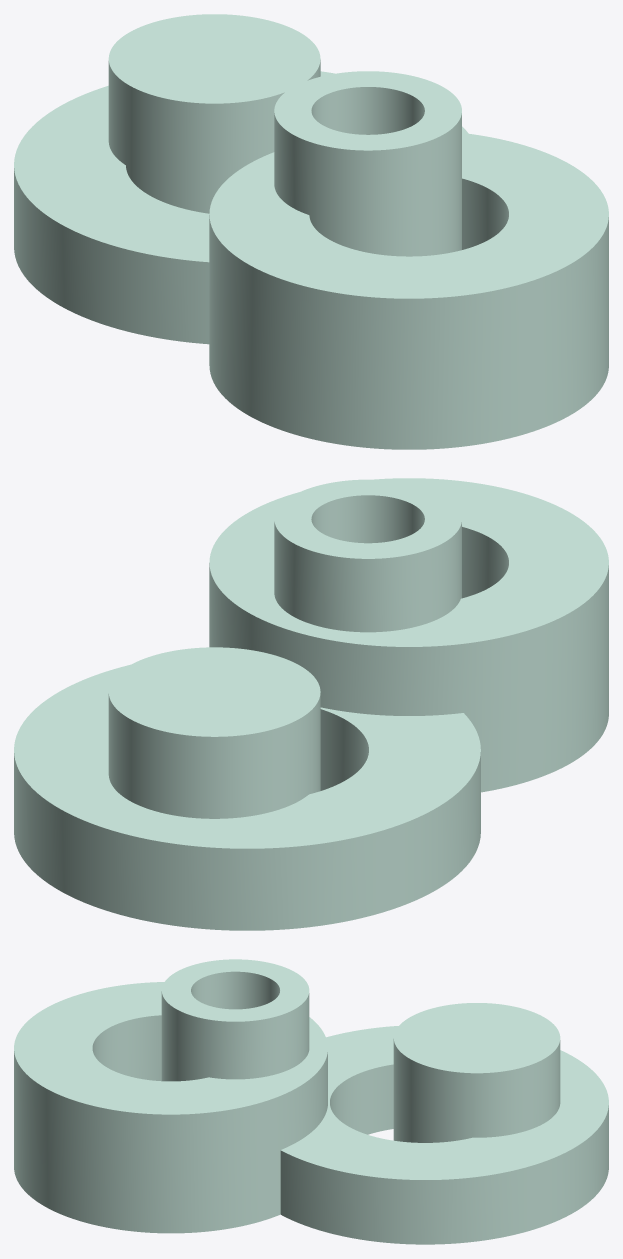
3 renders of one model, top to bottom at view 1: azimuth 30°, elevation 25°; view 2: azimuth 150°, elevation 25°; view 3: azimuth 270°, elevation 25°, orthographic. The views are drawn at different scales.
Visible parts, largest first — view 1: Renderer Node; view 2: Renderer Node; view 3: Renderer Node.
Boxes of the visible parts, <box> form: Renderer Node: <box>14,14,608,449</box>; Renderer Node: <box>14,478,608,930</box>; Renderer Node: <box>14,959,608,1244</box>.
Size of the model in its own units: 0.7657 by 0.4063 by 1.24.
